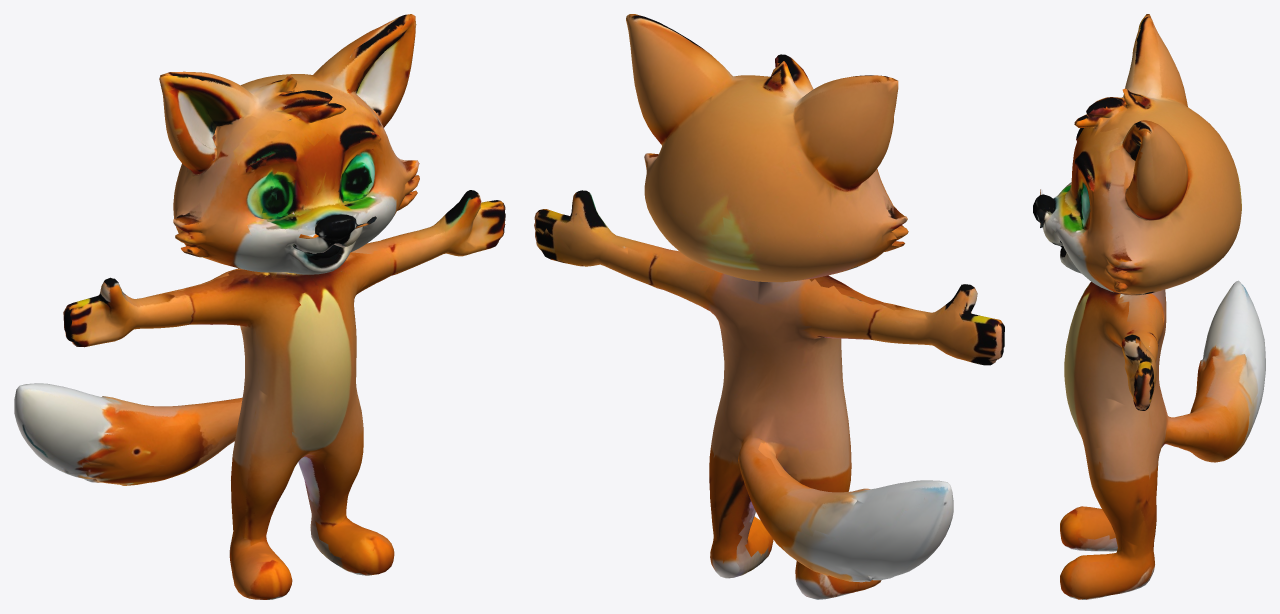
Rendered from fox.glb.
3 views of the same model, side by side, from view 1: azimuth 30°, elevation 25°; view 2: azimuth 150°, elevation 25°; view 3: azimuth 270°, elevation 25° (orthographic). The views are drawn at different scales.
Parts seen in each view (by area): view 1: fox_clean; view 2: fox_clean; view 3: fox_clean.
Part boxes in pixels (x1,y1,x2,y2): fox_clean: (14, 14, 505, 599); fox_clean: (534, 14, 1004, 599); fox_clean: (1033, 14, 1265, 599).
Size of the model in its own units: 1.13 by 1.25 by 0.5318.
1 material, 1 textured.
